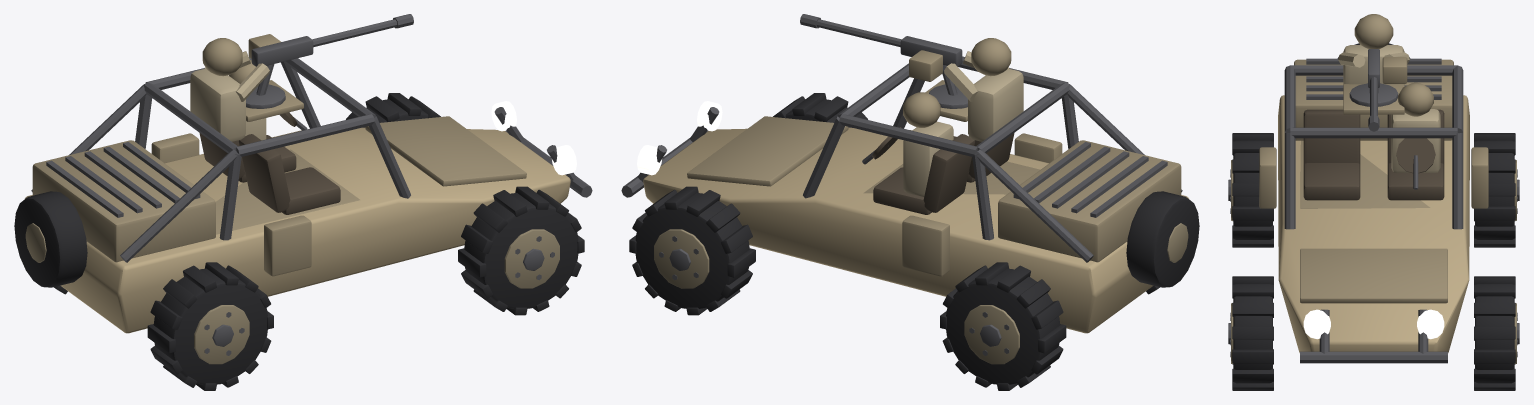
The model's file is buggy.glb.
3 views of the same model, side by side, from view 1: azimuth 30°, elevation 25°; view 2: azimuth 150°, elevation 25°; view 3: azimuth 270°, elevation 25° (orthographic). The views are drawn at different scales.
Parts seen in each view (by area): view 1: hull, wheel_R1, wheel_R2, turret, barrel, wheel_L1; view 2: hull, wheel_L1, wheel_L2, turret, barrel, wheel_R1; view 3: hull, wheel_L1, wheel_R1, wheel_L2, wheel_R2, turret, barrel.
Part boxes in pixels (<box>): hull: <box>14,57,592,333</box>; wheel_R1: <box>458,186,584,315</box>; wheel_R2: <box>147,262,273,390</box>; turret: <box>190,34,285,141</box>; barrel: <box>251,14,413,66</box>; wheel_L1: <box>346,93,440,127</box>; hull: <box>621,56,1199,333</box>; wheel_L1: <box>629,186,755,315</box>; wheel_L2: <box>940,262,1066,390</box>; turret: <box>909,38,1023,141</box>; barrel: <box>800,14,962,66</box>; wheel_R1: <box>773,93,867,127</box>; hull: <box>1259,43,1488,363</box>; wheel_L1: <box>1474,276,1519,390</box>; wheel_R1: <box>1228,276,1273,390</box>; wheel_L2: <box>1474,133,1519,247</box>; wheel_R2: <box>1228,133,1273,247</box>; turret: <box>1338,14,1409,106</box>; barrel: <box>1368,49,1379,131</box>.
Bounding box in the file's own units: 4.59 × 2.34 × 2.37.
